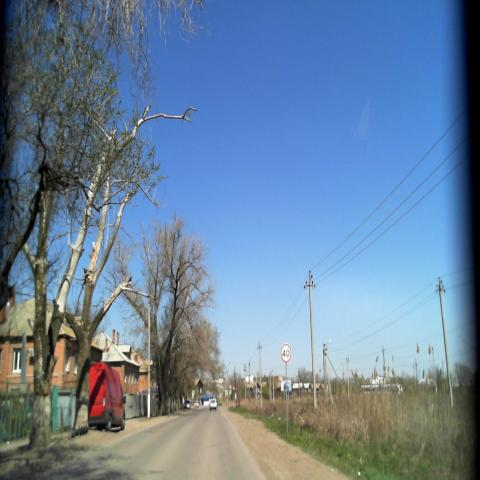3_24: (280, 342, 292, 364)
